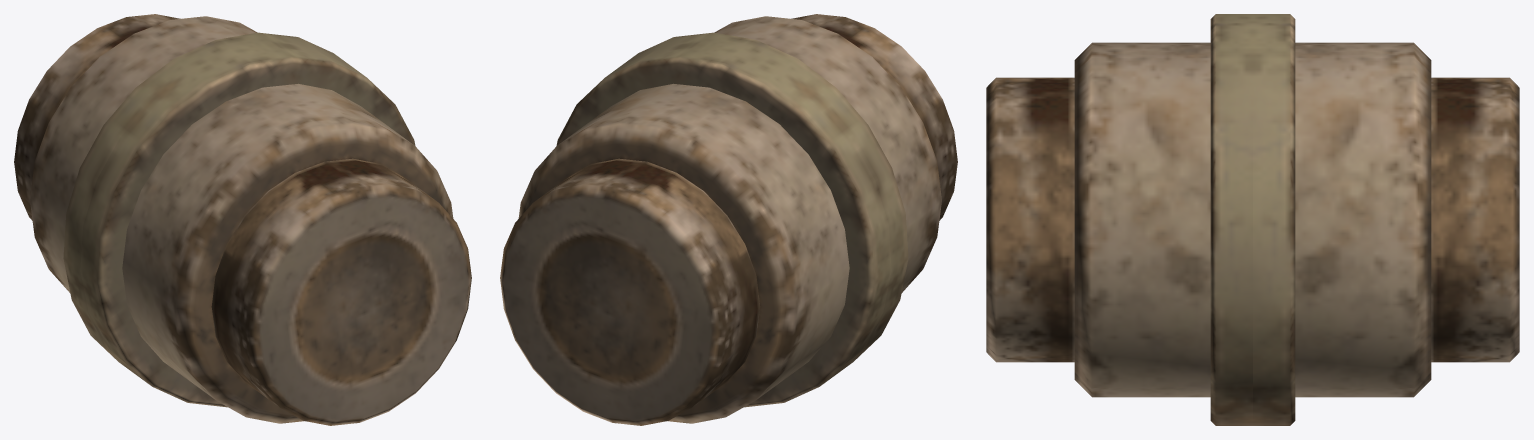
The model's file is SM_Cabel_Soedinitel.fbx.
The picture shows the model from 3 angles, left to right: view 1: azimuth 30°, elevation 25°; view 2: azimuth 150°, elevation 25°; view 3: azimuth 270°, elevation 25°; orthographic projection. The views are drawn at different scales.
Parts seen in each view (by area): view 1: SM_Cabel_Soedinitel; view 2: SM_Cabel_Soedinitel; view 3: SM_Cabel_Soedinitel.
Part boxes in pixels (x1,y1,x2,y2): SM_Cabel_Soedinitel: (14, 14, 471, 425); SM_Cabel_Soedinitel: (500, 14, 957, 425); SM_Cabel_Soedinitel: (986, 14, 1519, 425).
Size of the model in its own units: 0.1664 by 0.1664 by 0.2146.
